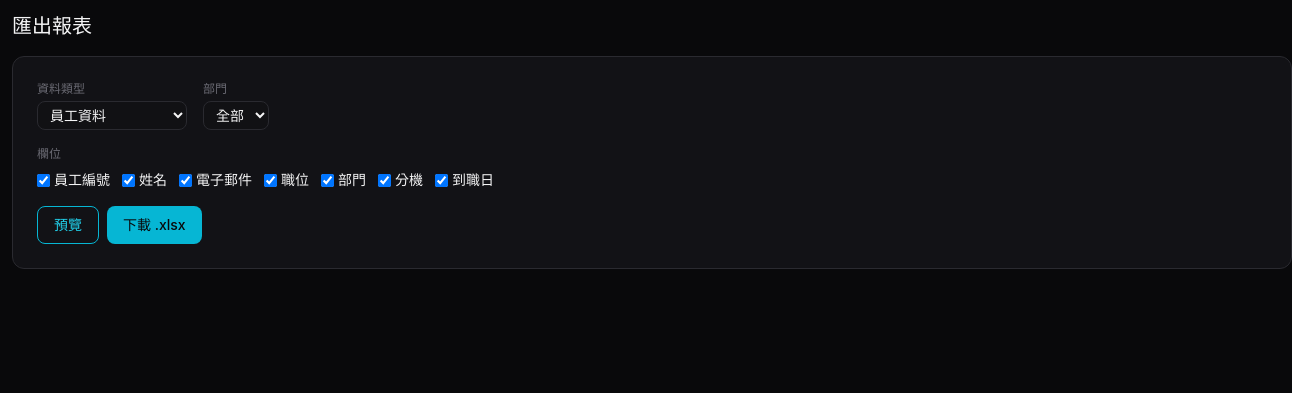
Test: 切換資料類型會重設欄位為新類型的完整欄位並清空預覽
Expected: the checkbox labelled "員工編號" is shown, left=37, top=174, right=50, bottom=186
Click the button "預覽". click: click(68, 225)
box: left=37, top=206, right=99, bottom=244
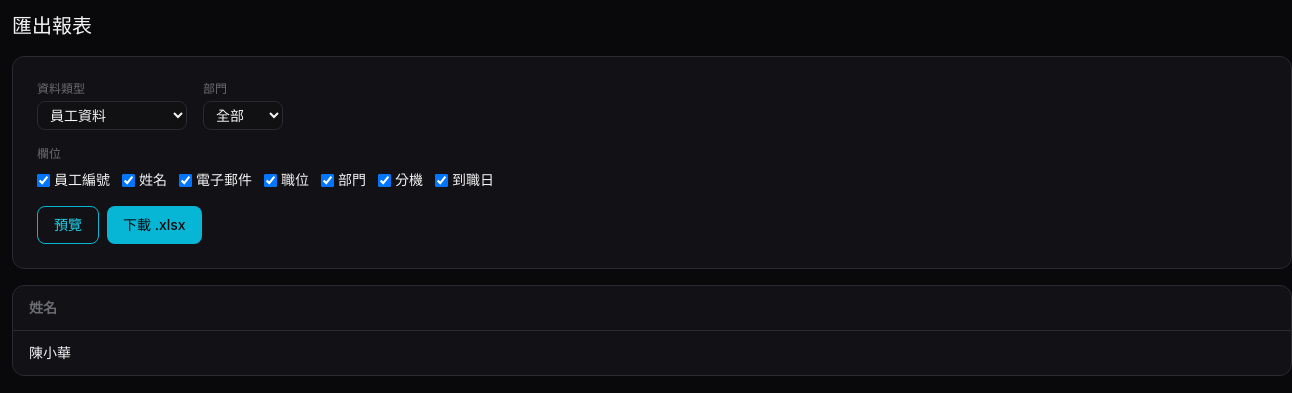
Expected: the table is shown, left=13, top=286, right=1291, bottom=375
Select "出勤（生效值）" in the dropdown labelled "資料類型". click: (112, 116)
box: left=37, top=101, right=187, bottom=130
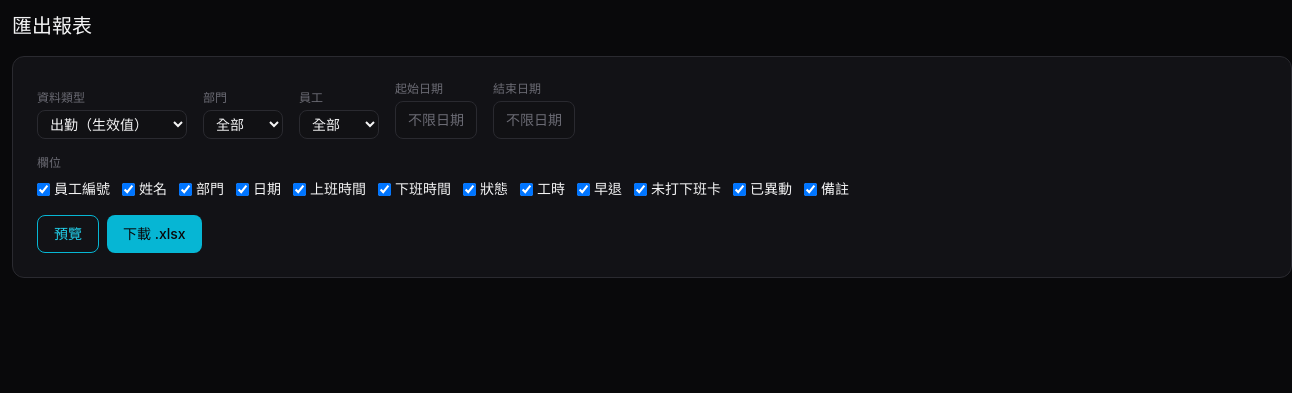
Expected: the checkbox labelled "上班時間" is checked, left=293, top=182, right=306, bottom=196
Expected: the table is gone
